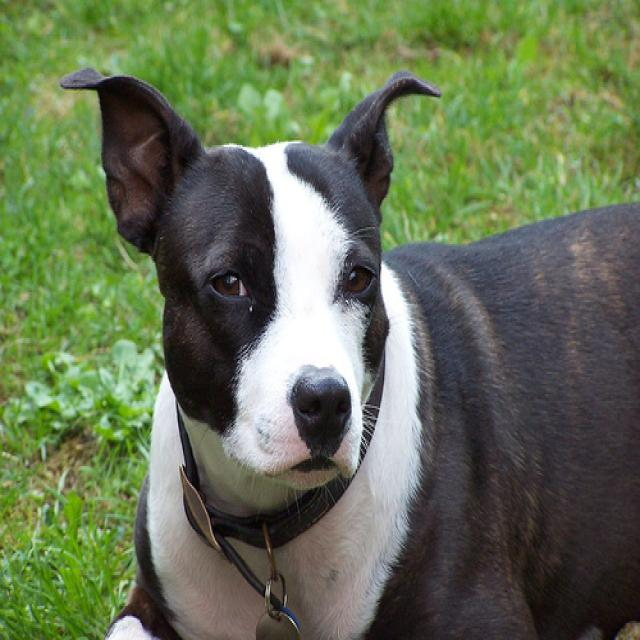dog-staffordshire_bull_terrier: (54, 49, 637, 637)
